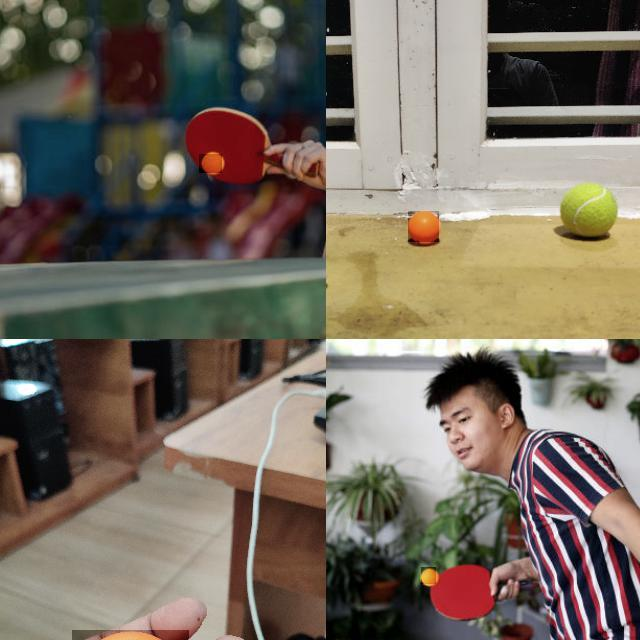ping-pong-ball: (408, 211, 440, 243), (199, 154, 223, 174), (420, 567, 438, 585)
